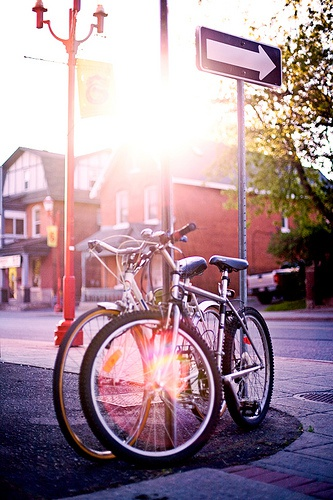non-vehicle: (76, 222, 275, 462), (53, 228, 227, 461)
